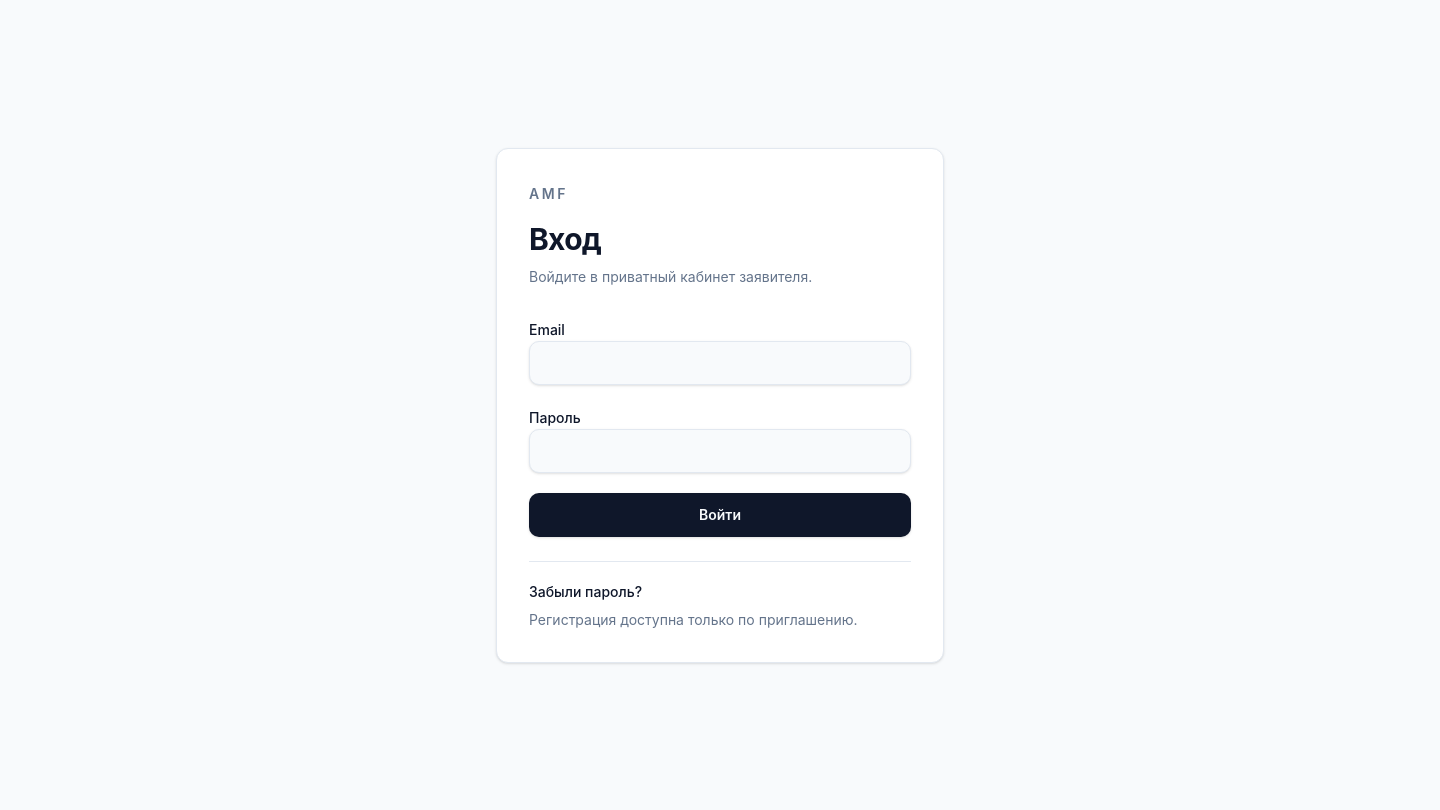
Test: authentication forms › logs in with CSRF and rejects an external return target
This screenshot has width=1440, height=810.
Type "Applicant@Example.com" into the field labelled "Email" at (720, 362), box 529,340 -> 911,384
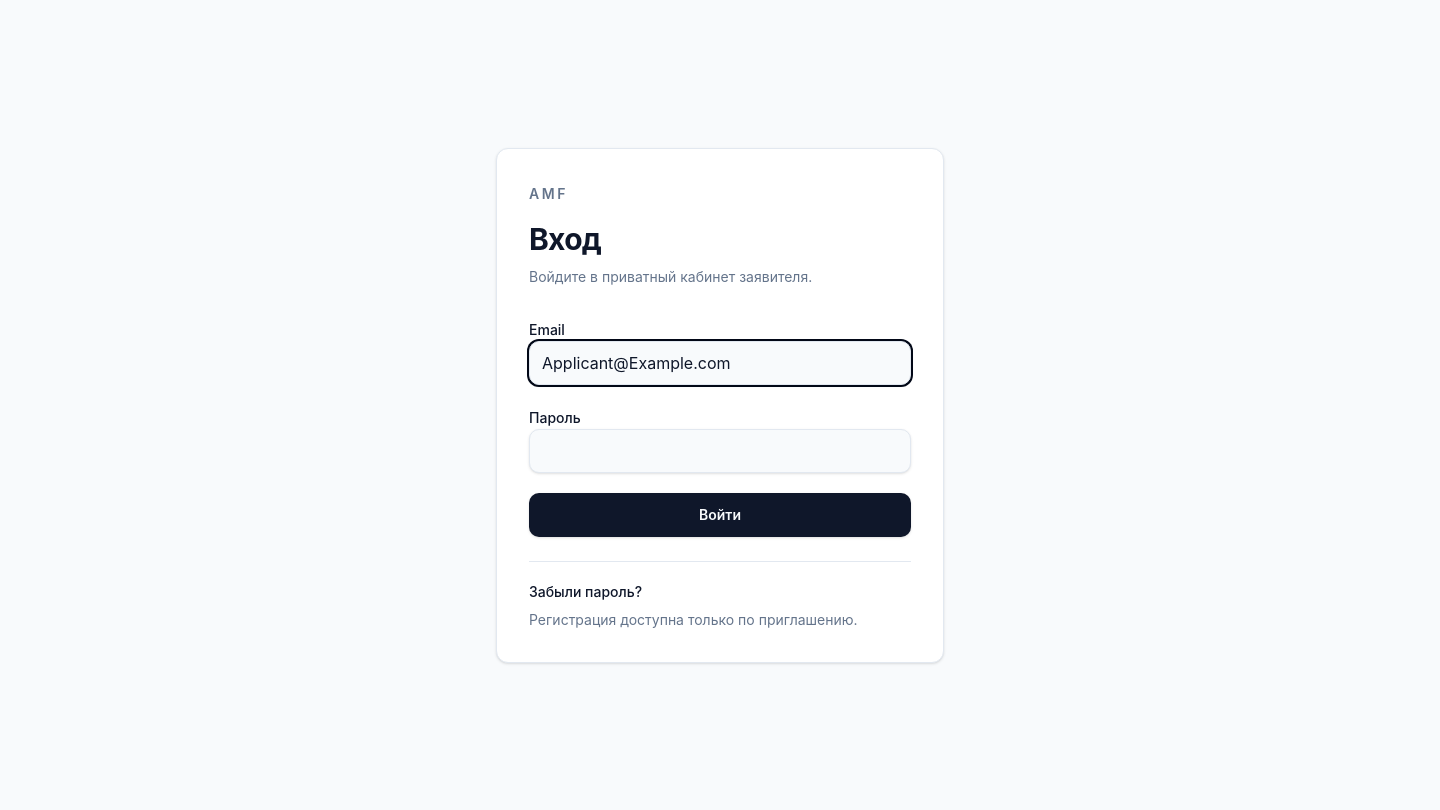
Type "correct-password" into the password field labelled "Пароль" at (720, 450), box 529,428 -> 911,472
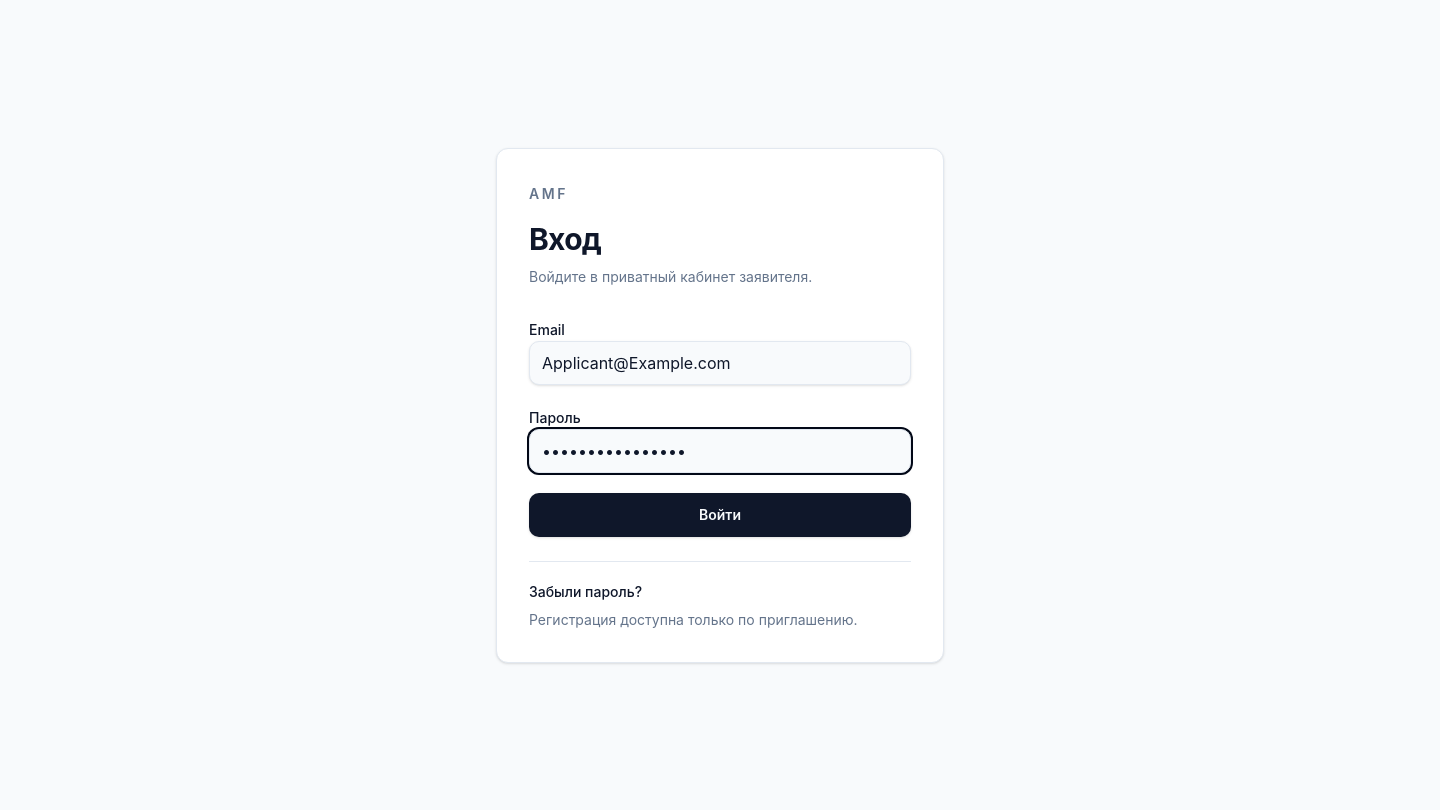
Click the button "Войти" at (720, 514), box 529,492 -> 911,536
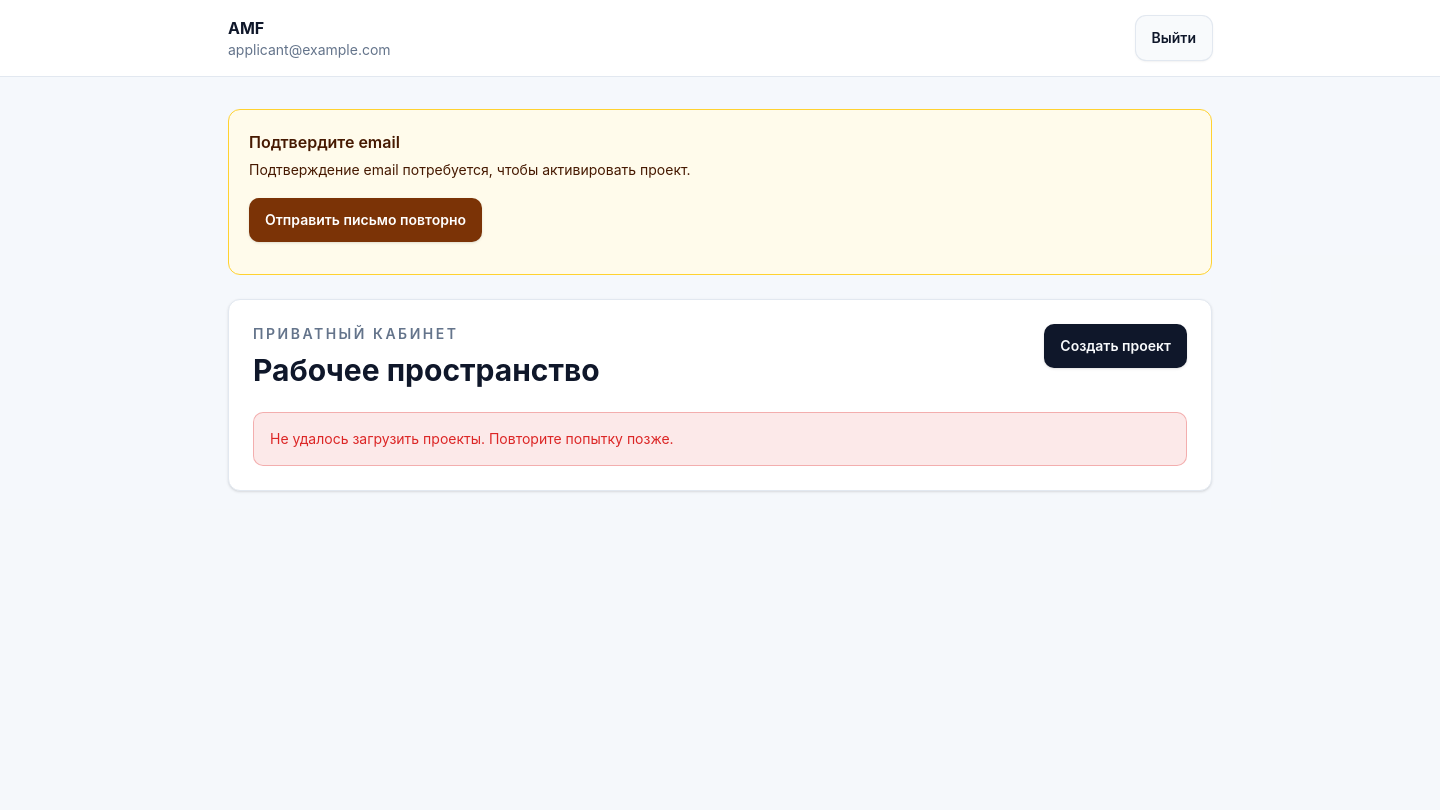
Expected: the heading "Рабочее пространство" is shown, 253,352 -> 600,388
